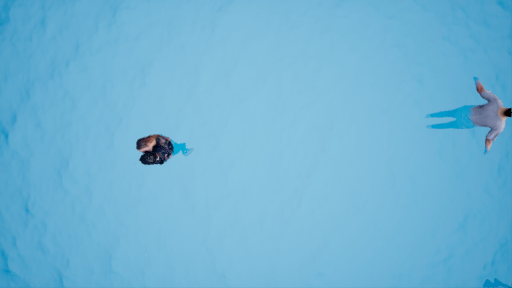person: (418, 77, 512, 156), (126, 128, 200, 165)
